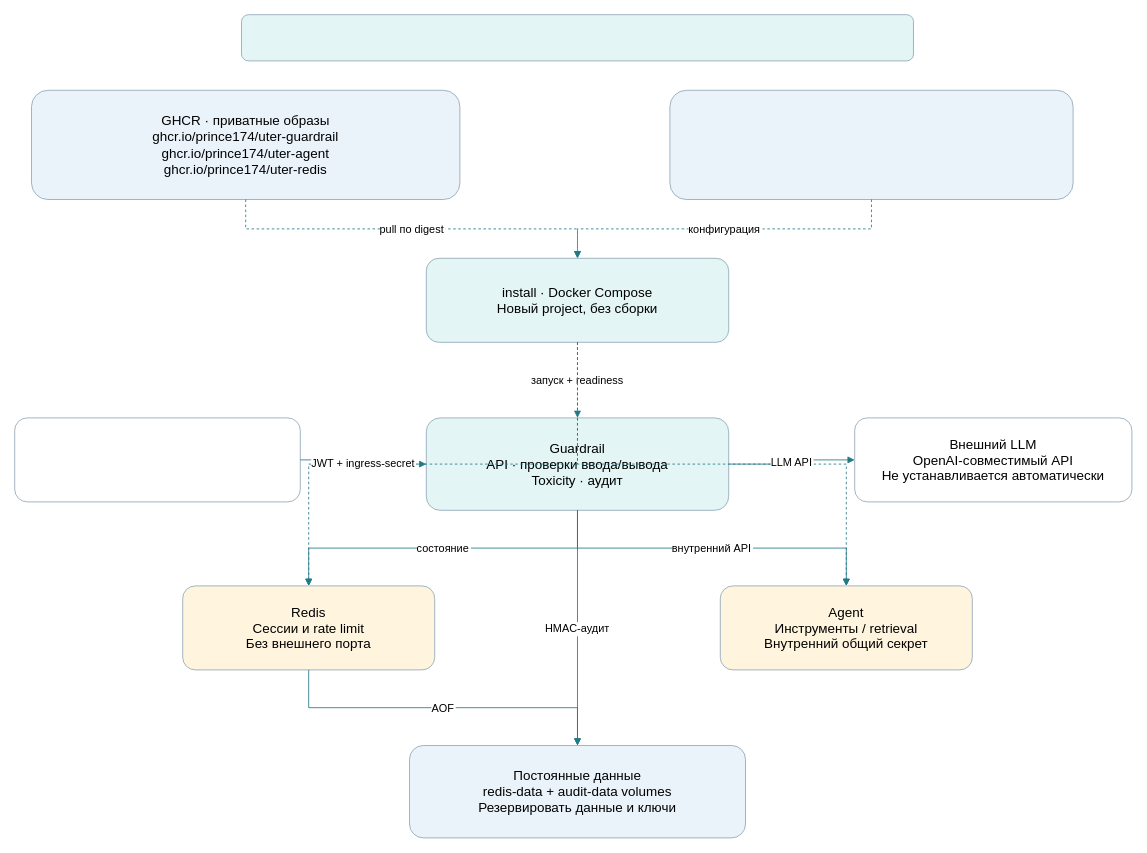
This 1147x853 diagram has some shape labels left out. The shapes that lost their labels are listed below. From the top down, each one's box as (x1, y1, x2, y2) in pixels, then its label:
(241, 14, 914, 61): Uter · развёртывание через Compose
(669, 89, 1073, 200): prepare → check LLM URL / модель / API-ключ Пароли, политики, ключ HMAC аудита
(14, 417, 300, 502): Точка входа 127.0.0.1:18000 Внешний TLS reverse proxy — отдельно
